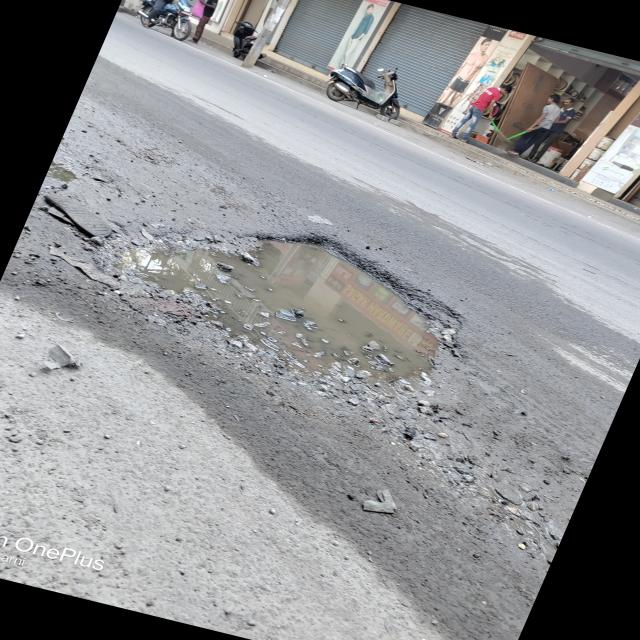Puddle pothole: (113, 211, 505, 405)
potholes: (52, 161, 76, 192)
